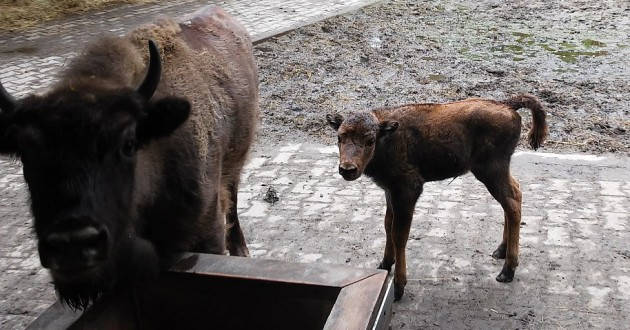zubr: (6, 1, 268, 330), (308, 78, 579, 296)
